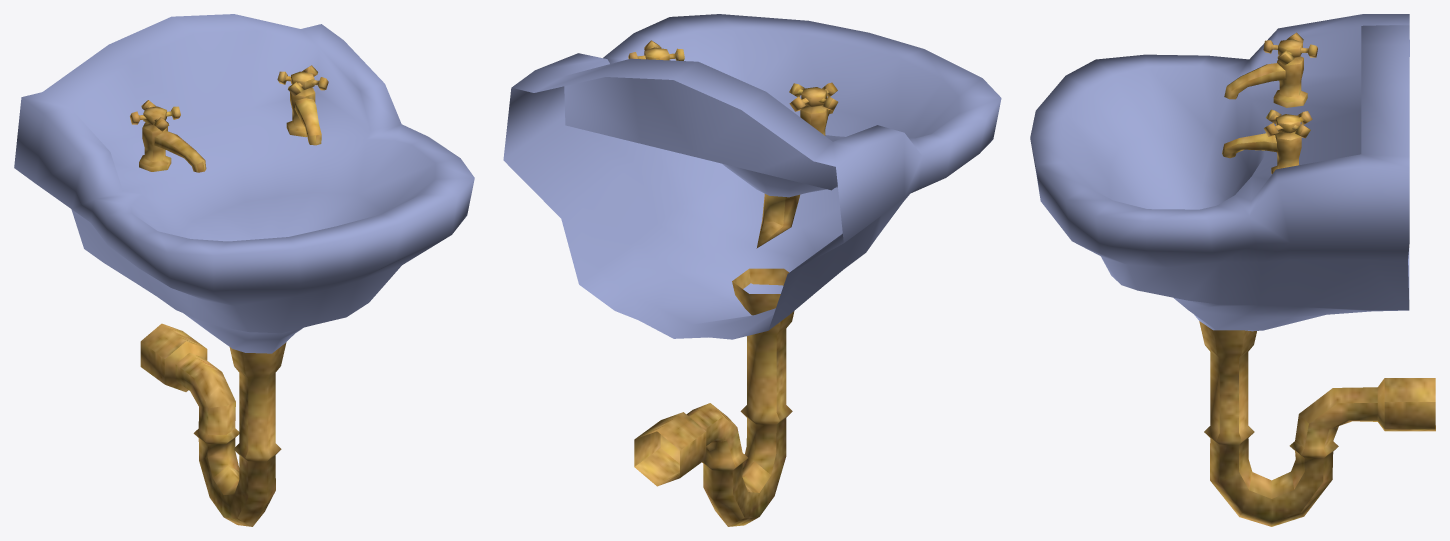
The model's file is Sink_Bathroom.fbx.
The picture shows the model from 3 angles, left to right: view 1: azimuth 30°, elevation 25°; view 2: azimuth 150°, elevation 25°; view 3: azimuth 270°, elevation 25°; orthographic projection. The views are drawn at different scales.
Parts seen in each view (by area): view 1: Sink_LOD0; view 2: Sink_LOD0; view 3: Sink_LOD0.
Boxes of the visible parts, <box> form: Sink_LOD0: <box>14,14,474,526</box>; Sink_LOD0: <box>503,14,1001,526</box>; Sink_LOD0: <box>1030,14,1435,526</box>.
Size of what is drawn, in the model's own units: 42.6 by 57.44 by 43.8.
